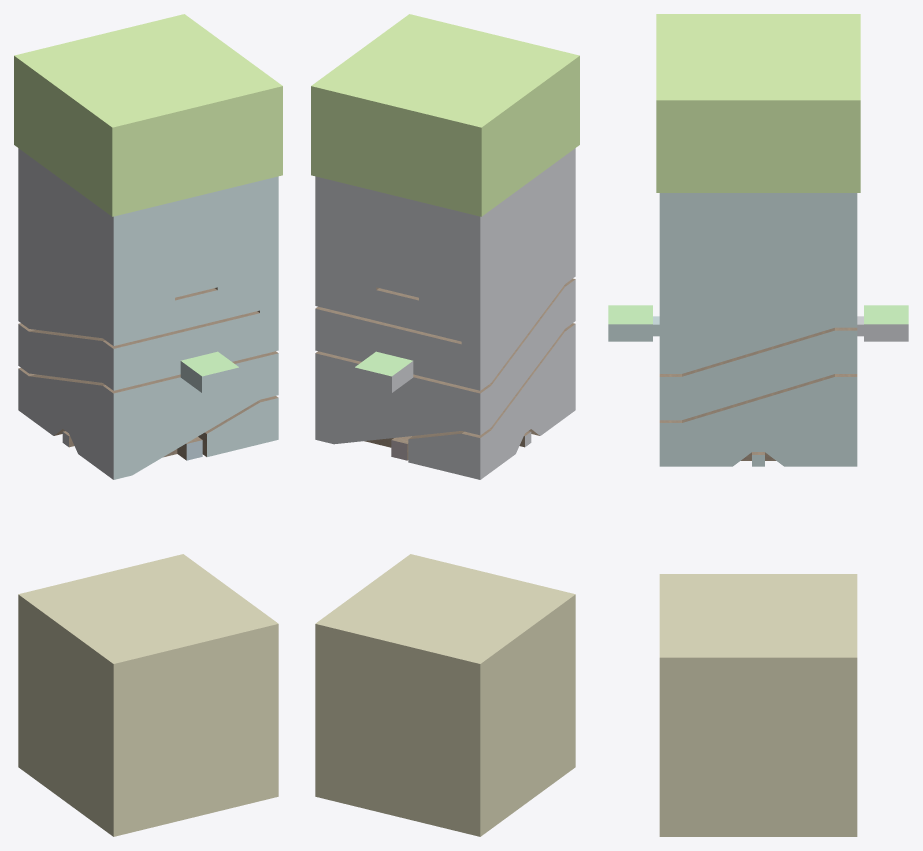
File: internal_heights.glb
3 renders of one model, left to right at view 1: azimuth 30°, elevation 25°; view 2: azimuth 150°, elevation 25°; view 3: azimuth 270°, elevation 25°, orthographic. The views are drawn at different scales.
Visible parts, largest first — view 1: world_geometry; view 2: world_geometry; view 3: world_geometry.
Part boxes in pixels (x1,y1,x2,y2): world_geometry: (14,14,282,836); world_geometry: (311,14,579,836); world_geometry: (608,14,908,836).
Bounding box in the file's own units: 39.01 × 155 × 57.3.
13 materials, 1 textured.
